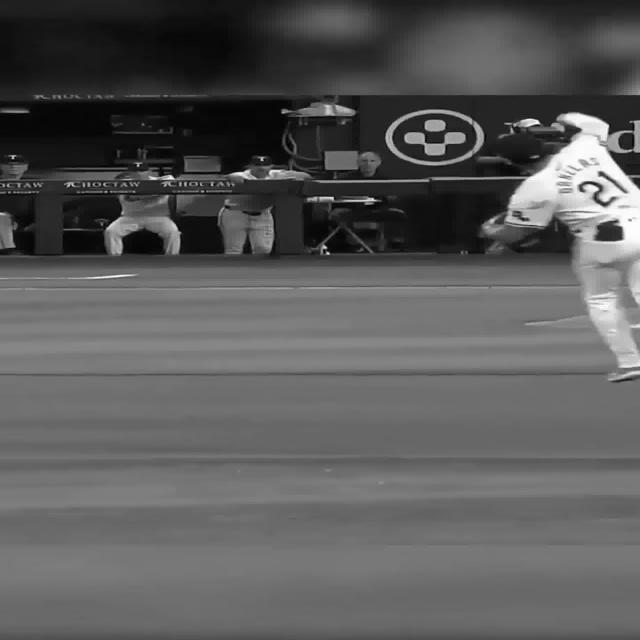baseball_glove: (476, 211, 530, 242)
shoe: (606, 366, 640, 382)
